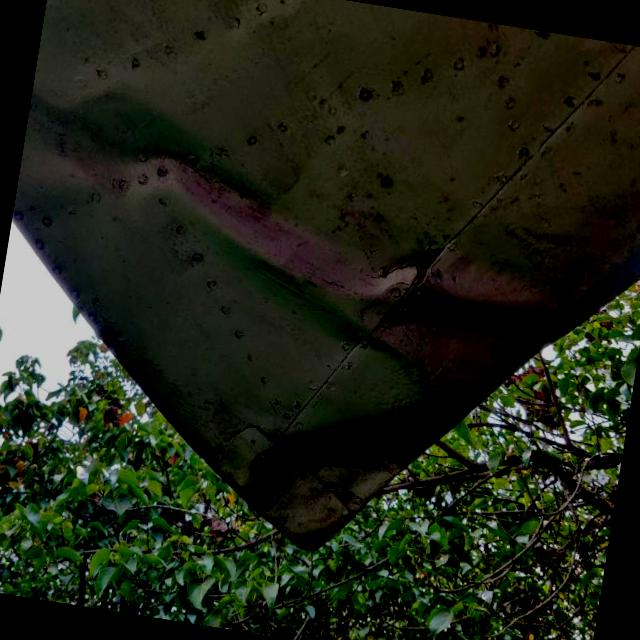crack: (360, 244, 428, 294)
dent: (0, 47, 626, 429), (228, 402, 428, 560)
